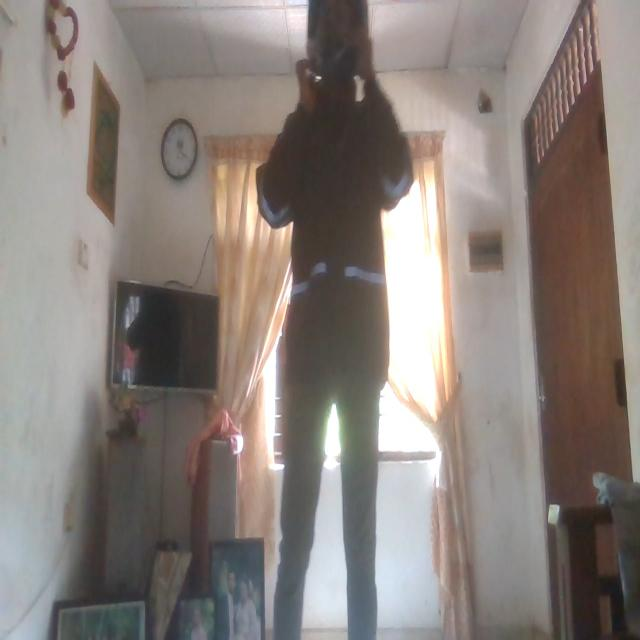Helmet_Wearer: (298, 0, 381, 83)
Jacket_Wearer: (262, 92, 408, 404)
Person: (263, 8, 408, 640)
